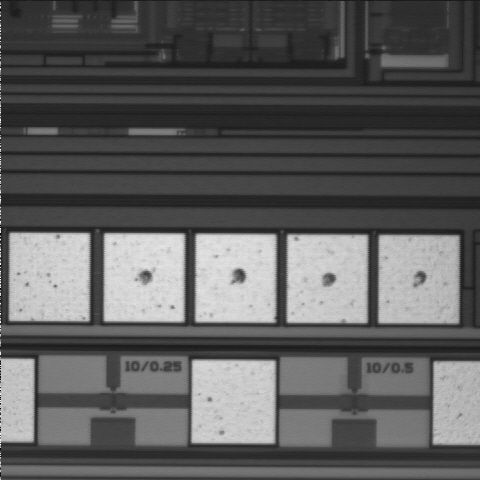pad: (104, 234, 184, 322), (196, 234, 276, 322), (287, 235, 367, 323), (10, 233, 89, 321), (192, 360, 275, 443), (379, 236, 458, 323)
